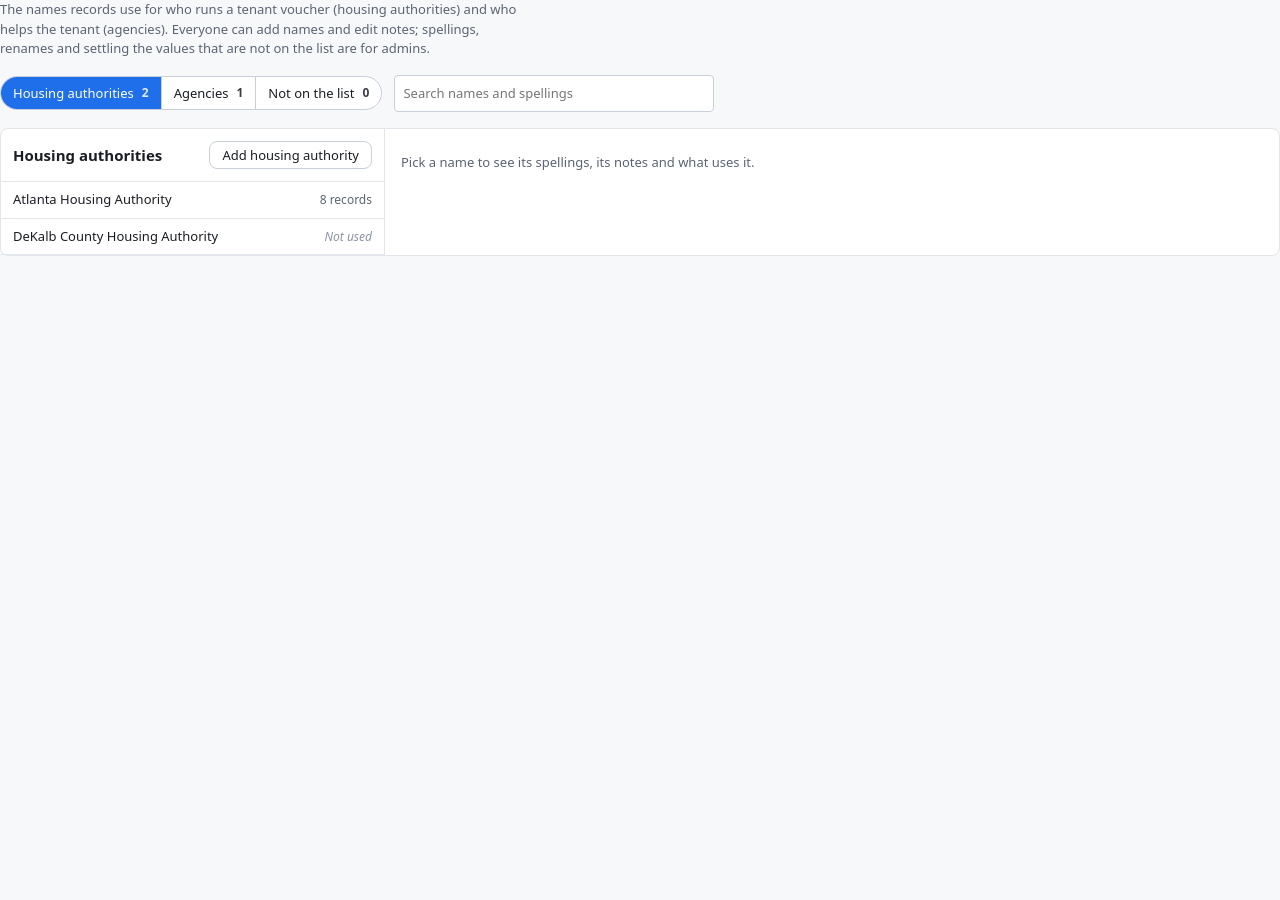
Scenario: OrgListSection - Add and notes (everyone) › Add opens "Is this really new?" with an empty Name; the added entry opens in the panel with its notes
Click the button "Agencies 1" at [209, 93], box x1=162 y1=77 x2=256 y2=109
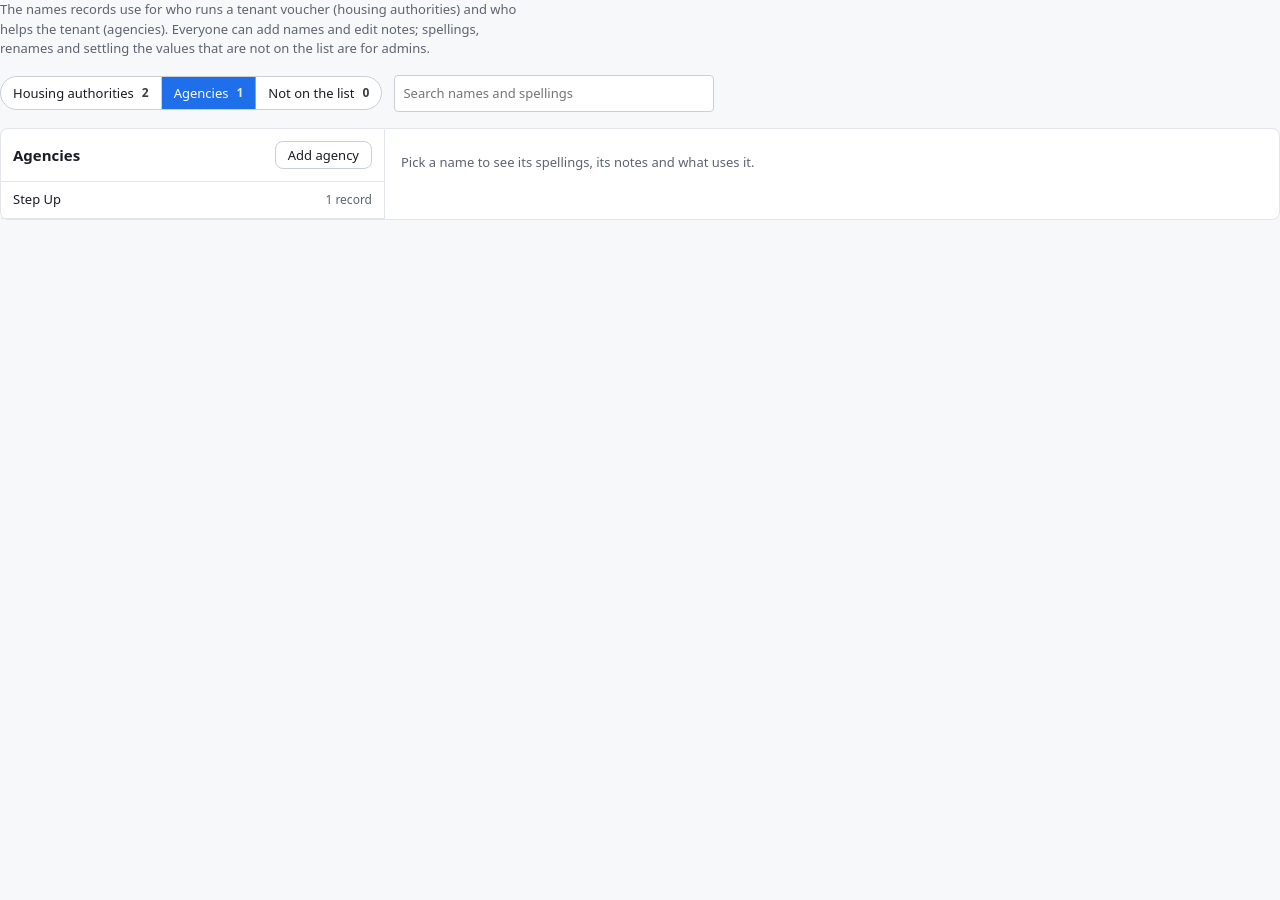
Click the button "Add agency" at [323, 155], box x1=275 y1=141 x2=372 y2=169
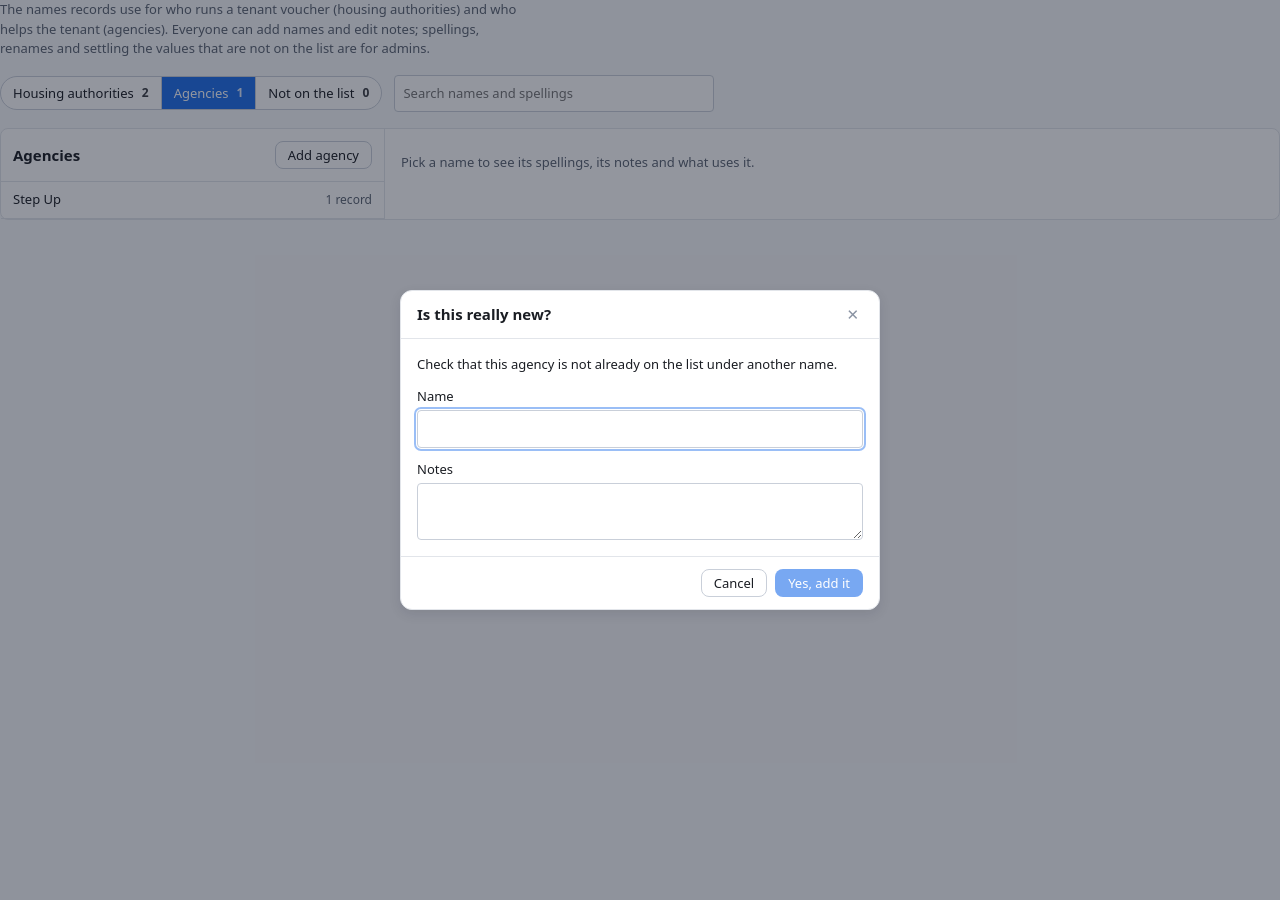
Type "Finch Mission" into the field labelled "Name" at [640, 429], box x1=417 y1=410 x2=863 y2=448
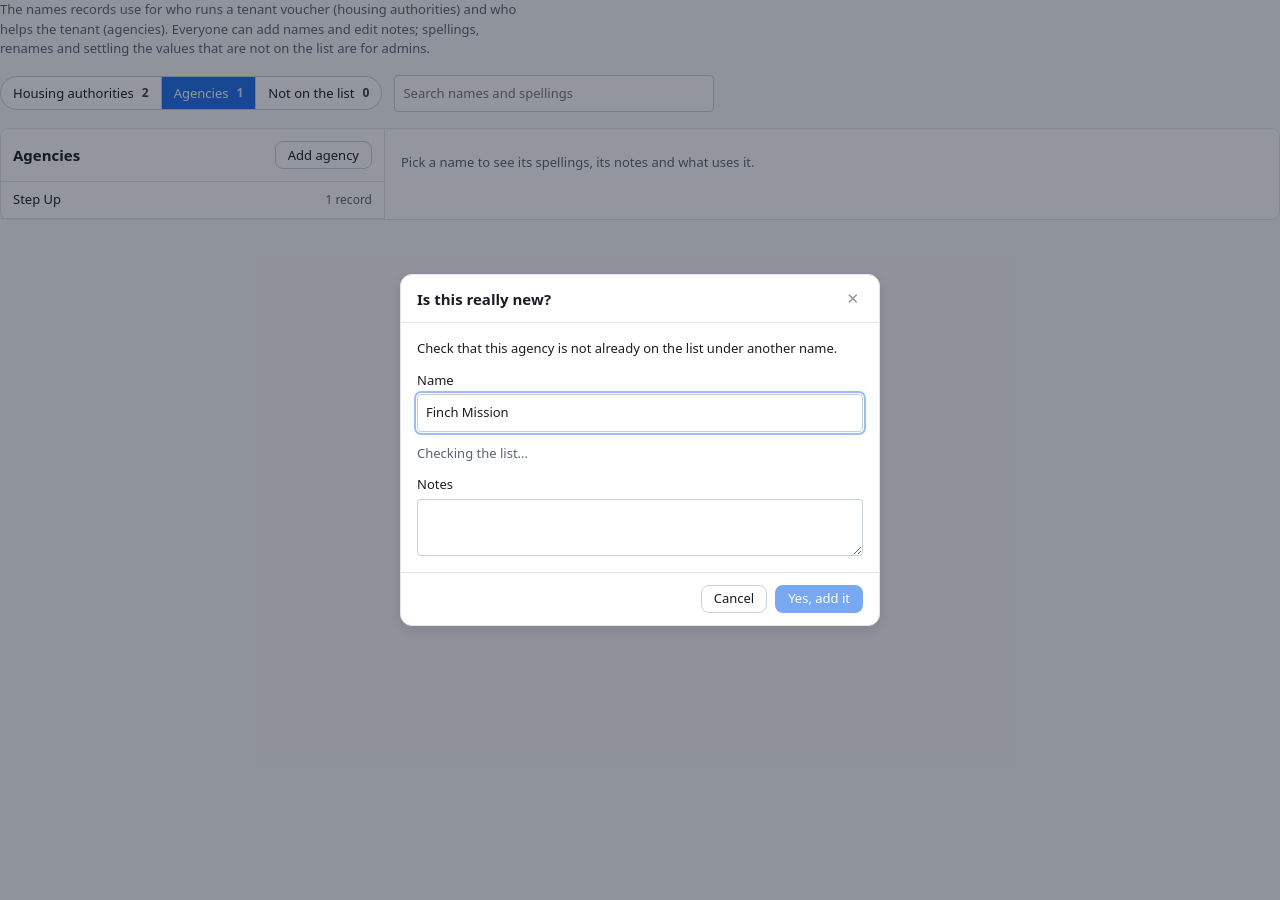
Type "Added today" into the text box labelled "Notes" at [640, 527], box x1=417 y1=499 x2=863 y2=556
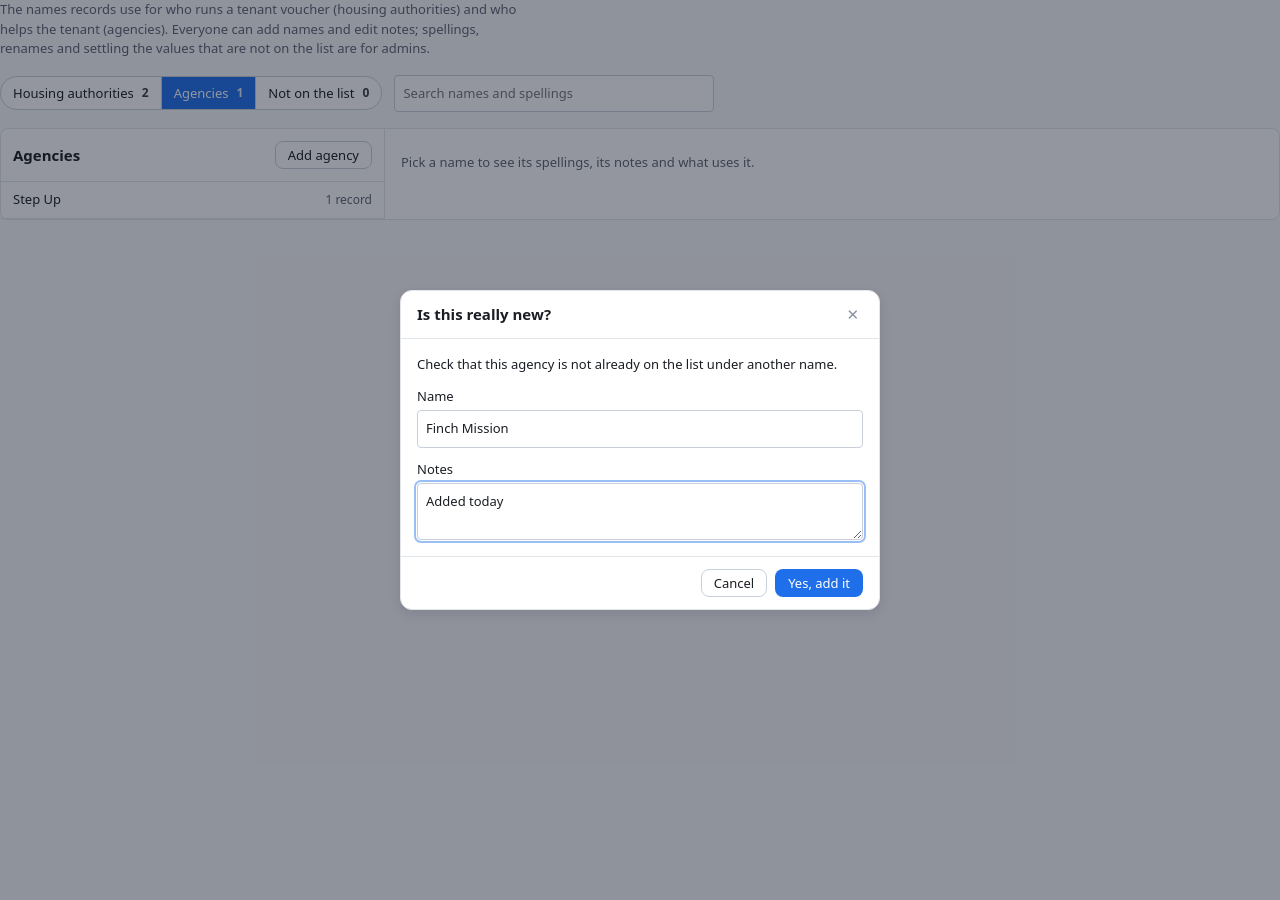
Expected: the button "Yes, add it" is enabled
Click the button "Yes, add it" at [819, 583], box x1=775 y1=569 x2=863 y2=597
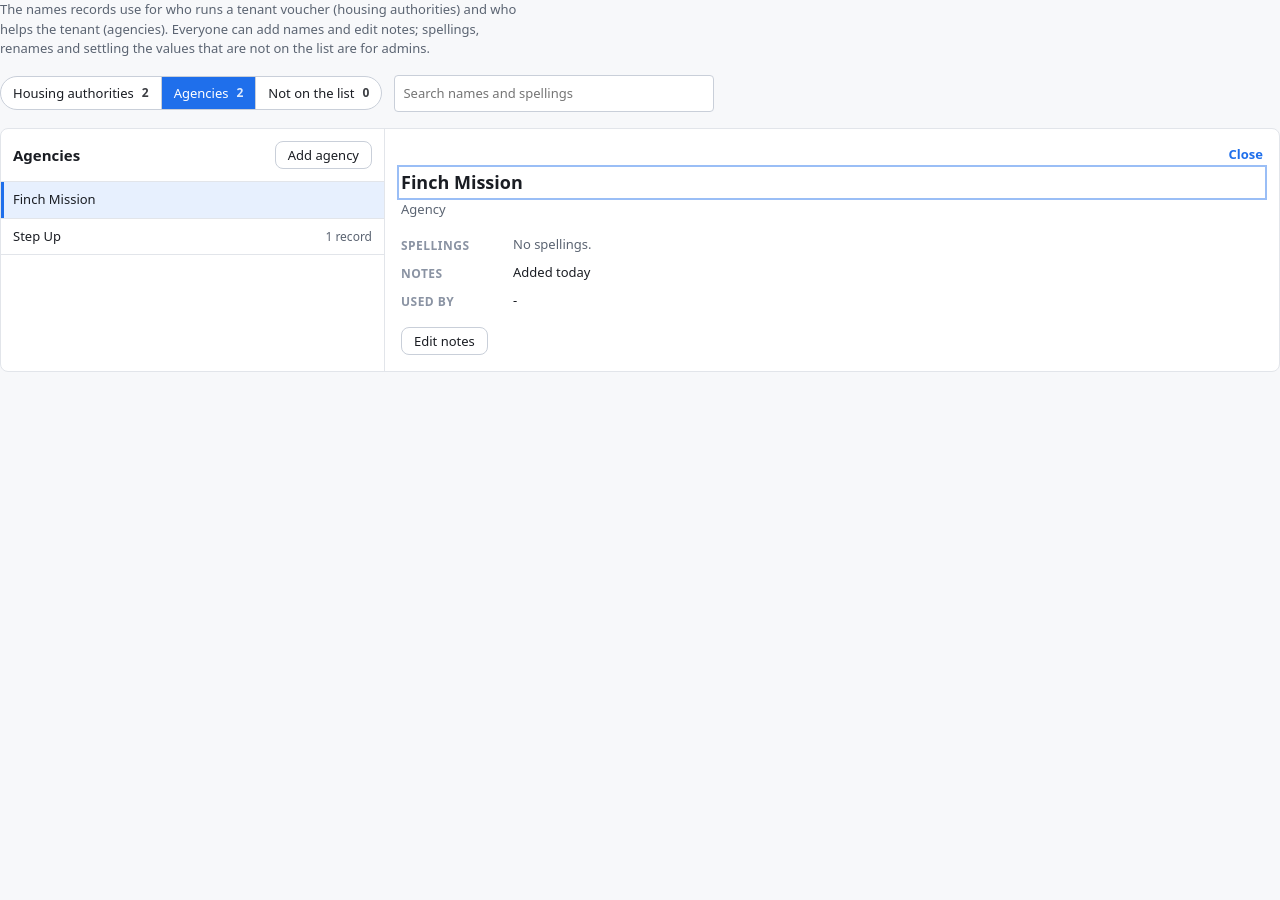
Expected: the dialog is gone
Expected: the element "Finch Mission" shows "Added today", x1=513 y1=263 x2=590 y2=281
